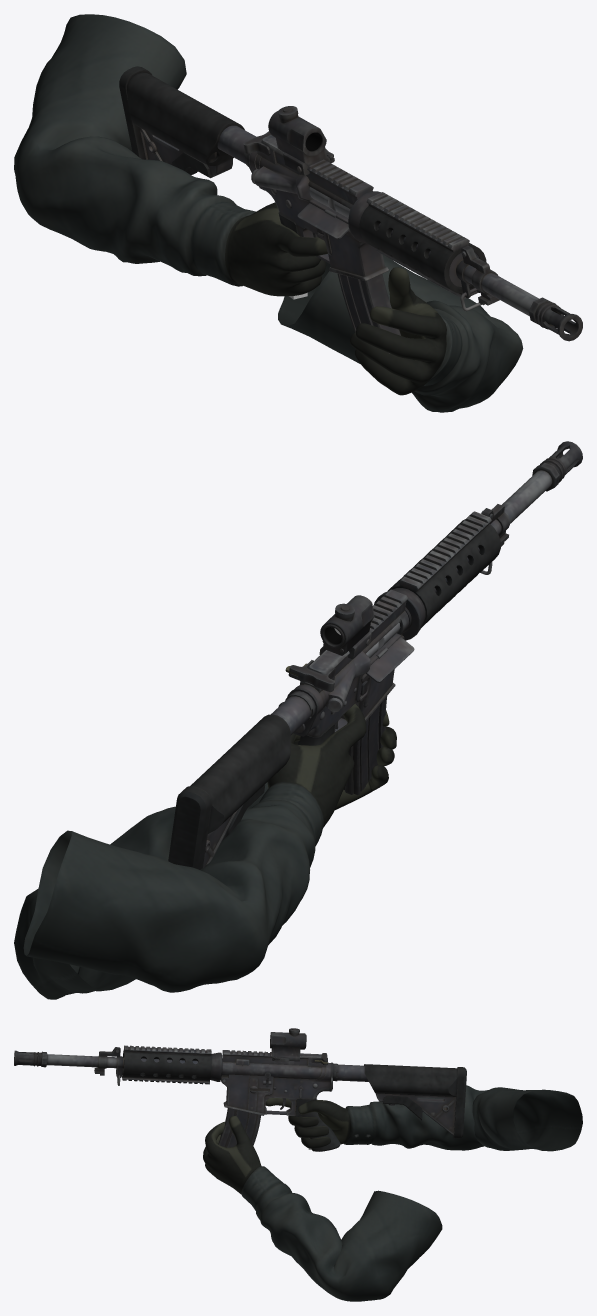
The model's file is gun_000014.obj.
The picture shows the model from 3 angles, top to bottom: view 1: azimuth 30°, elevation 25°; view 2: azimuth 150°, elevation 25°; view 3: azimuth 270°, elevation 25°; orthographic projection. The views are drawn at different scales.
Visible parts, largest first — view 1: armmesh_arms_0, base_carbine_0, scope_carbine_0, clip_carbine_0, lid_carbine_0; view 2: armmesh_arms_0, base_carbine_0, scope_carbine_0, clip_carbine_0, lid_carbine_0, handle_carbine_0; view 3: armmesh_arms_0, base_carbine_0, scope_carbine_0, clip_carbine_0.
Boxes of the visible parts, x1,y1,x2,y2 form: armmesh_arms_0: (14, 14, 523, 412); base_carbine_0: (119, 66, 582, 341); scope_carbine_0: (268, 106, 334, 175); clip_carbine_0: (337, 273, 400, 353); lid_carbine_0: (297, 203, 349, 239); armmesh_arms_0: (14, 703, 396, 999); base_carbine_0: (168, 441, 582, 869); scope_carbine_0: (319, 595, 374, 659); clip_carbine_0: (343, 696, 387, 795); lid_carbine_0: (366, 637, 414, 682); handle_carbine_0: (288, 660, 335, 691); armmesh_arms_0: (203, 1085, 582, 1301); base_carbine_0: (14, 1045, 466, 1151); scope_carbine_0: (270, 1028, 306, 1061); clip_carbine_0: (218, 1108, 260, 1147).
Bounding box in the file's own units: 50.11 × 52.11 × 127.
